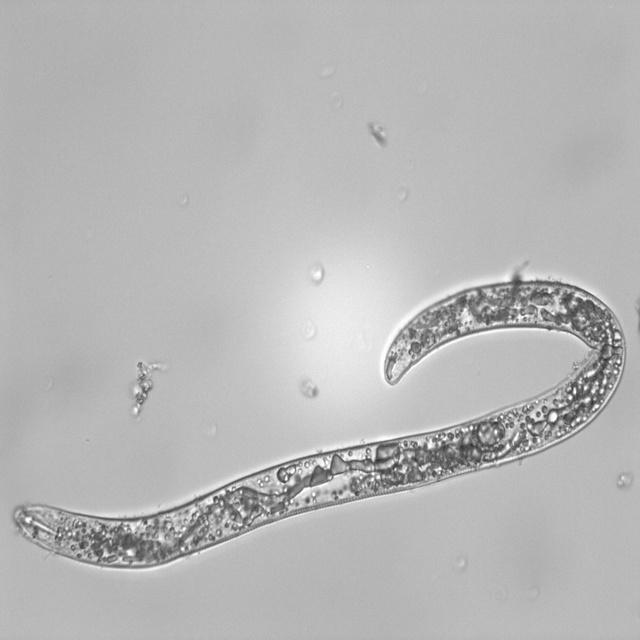Helicotylenchus: (11, 265, 631, 573)
